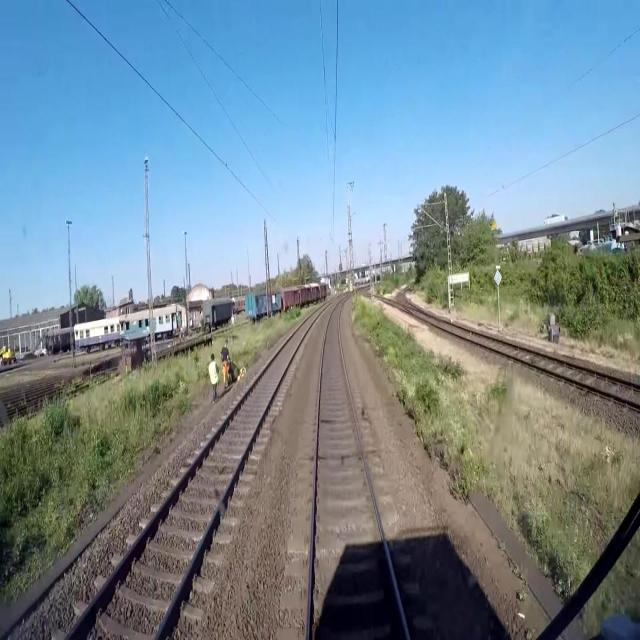bus-truck: (120, 305, 189, 349), (75, 317, 123, 353), (281, 285, 329, 313), (247, 291, 284, 325), (203, 299, 236, 333), (47, 327, 77, 356), (545, 216, 569, 226)
person: (209, 354, 222, 404), (224, 340, 233, 390)
